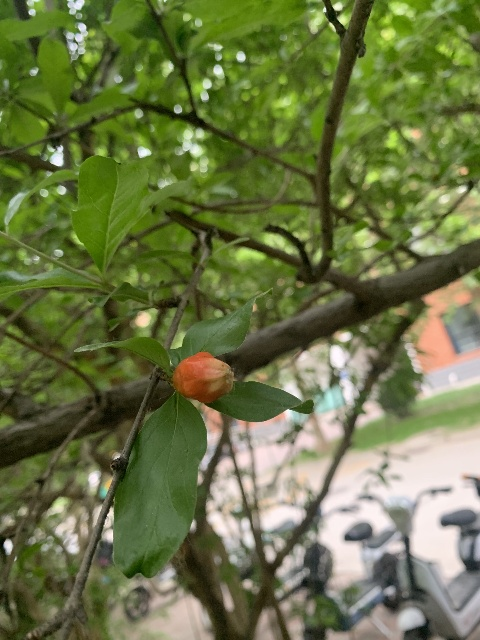bud: (172, 351, 233, 404)
